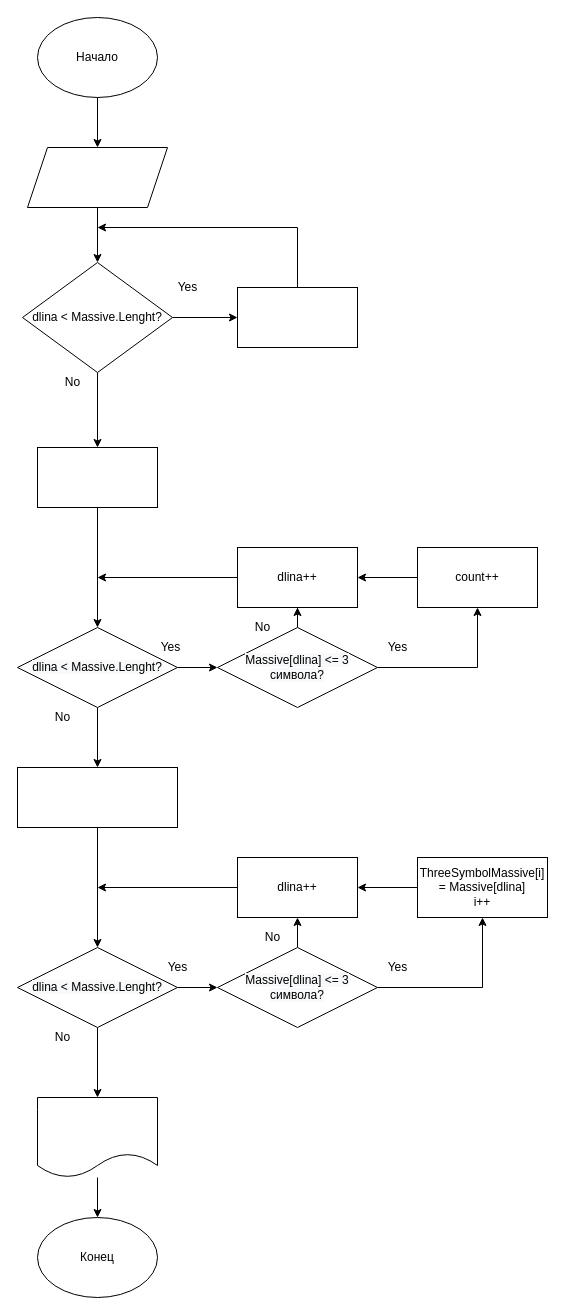
The diagram is 565 pixels wide and 1315 high, and some of its shapes have lost their labels. Each missing label, with the centre of its shape:
"dlina = 0" goes at point 97,477.
"Print ThreeSymbolMassive" goes at point 97,1137.
"string Massive[10] int dlina = 0 int count = 0" goes at point 97,177.
"ThreeSymbolMassive[count] dlina = 0 int i = 0" goes at point 97,797.
"Введите Massive[dlina] dlina++" goes at point 297,317.
